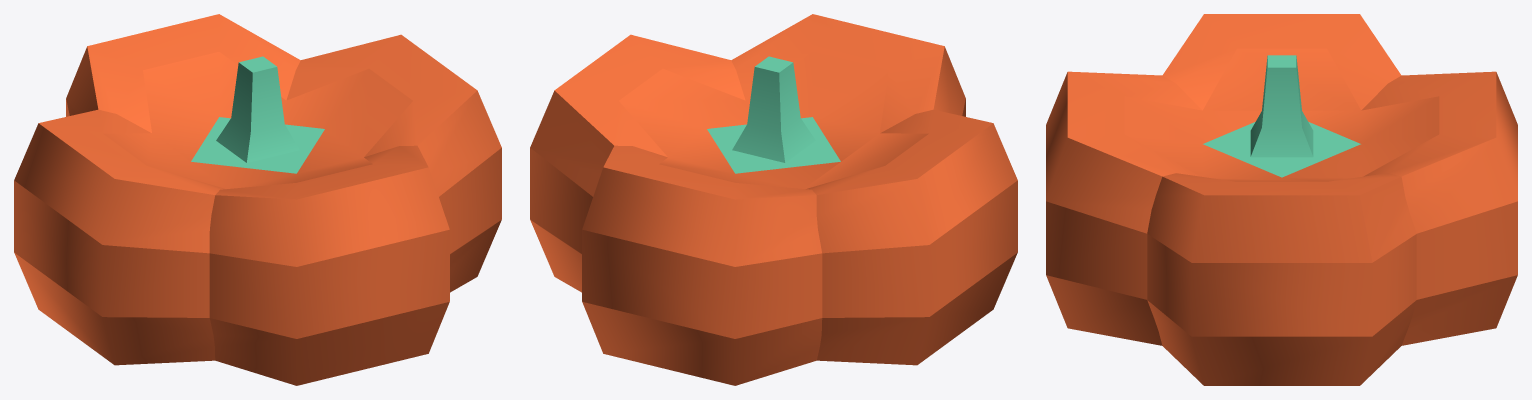
Rendered from pumpkin.GLB.
3 views of the same model, side by side, from view 1: azimuth 30°, elevation 25°; view 2: azimuth 150°, elevation 25°; view 3: azimuth 270°, elevation 25° (orthographic). The views are drawn at different scales.
Parts seen in each view (by area): view 1: pumpkin; view 2: pumpkin; view 3: pumpkin.
Boxes of the visible parts, x1=… form: pumpkin: x1=14, y1=14, x2=501, y2=385; pumpkin: x1=530, y1=14, x2=1017, y2=385; pumpkin: x1=1046, y1=14, x2=1517, y2=385.
Size of the model in its own units: 0.4189 by 0.2291 by 0.4189.
